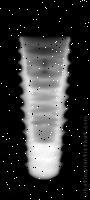Cowellmedi: (15, 36, 71, 182)
